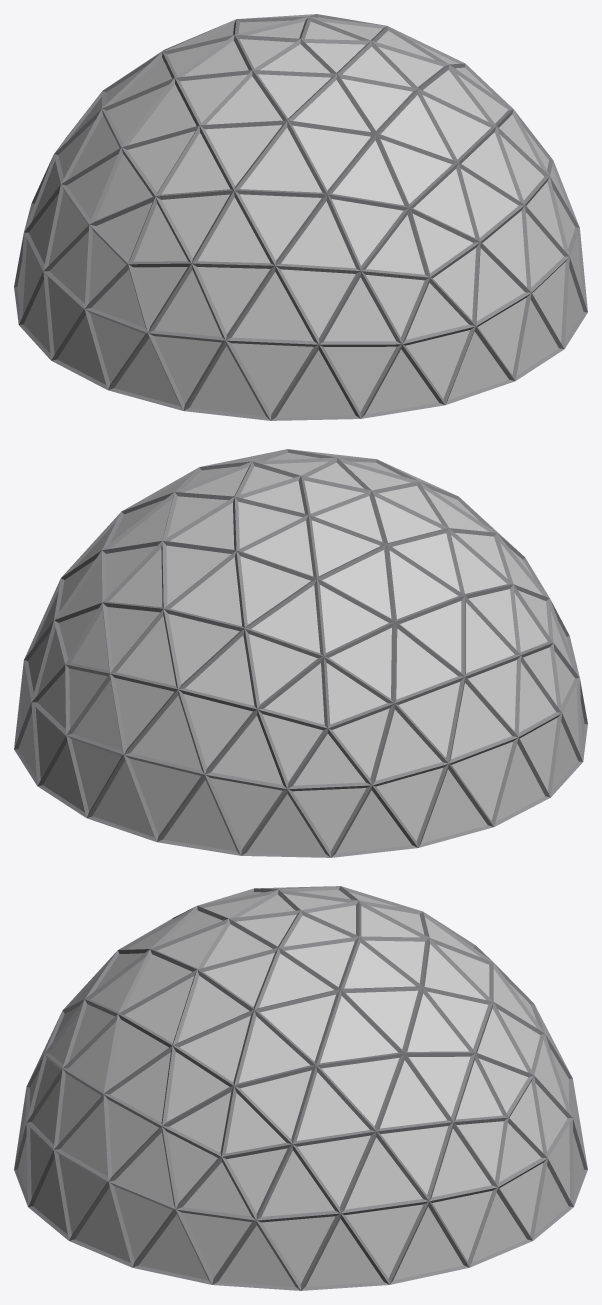
Rendered from SM_Dome_01.fbx.
The picture shows the model from 3 angles, top to bottom: view 1: azimuth 30°, elevation 25°; view 2: azimuth 150°, elevation 25°; view 3: azimuth 270°, elevation 25°; orthographic projection.
Visible parts, largest first — view 1: SM_Dome_01_LOD0; view 2: SM_Dome_01_LOD0; view 3: SM_Dome_01_LOD0.
Part boxes in pixels (<box>): SM_Dome_01_LOD0: <box>14,14,587,420</box>; SM_Dome_01_LOD0: <box>14,449,587,857</box>; SM_Dome_01_LOD0: <box>14,886,587,1290</box>.
Size of the model in its own units: 2400 by 2400 by 1200.
